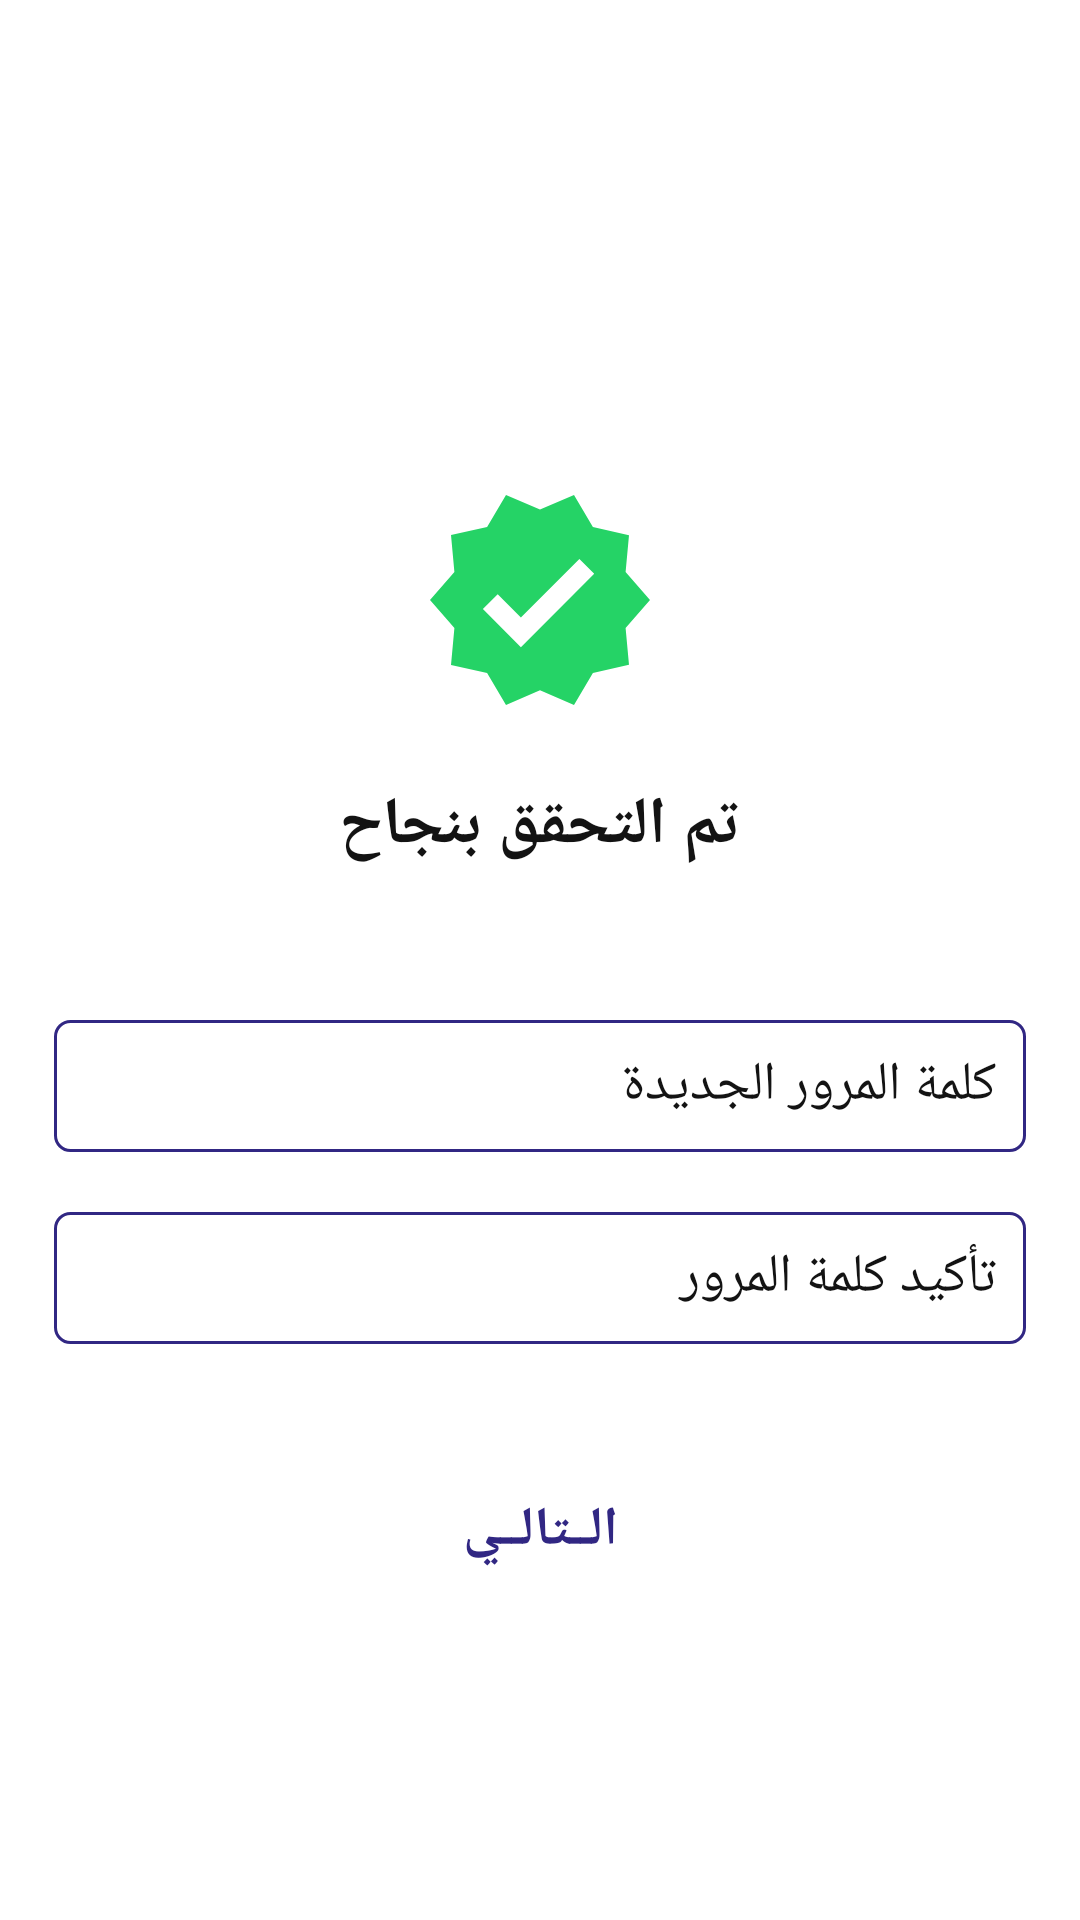

Locate icon controls on the screen. Image size 1080px x 1920px, boxes as (x1, y1, x2, y2).
verify: (430, 495, 650, 705)
